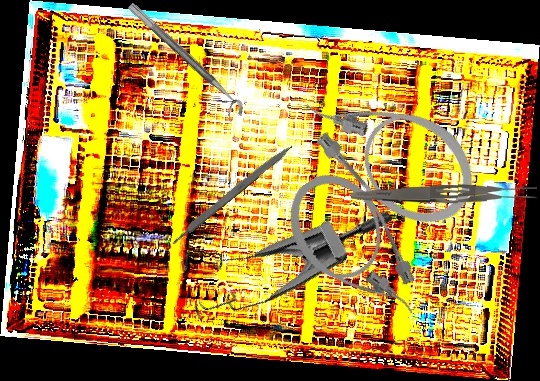Cannula: (286, 53, 494, 245), (271, 158, 437, 345)
Dressing Forceps: (350, 181, 538, 209)
Fixation Ring: (118, 1, 249, 125)
Scalpel Handle: (167, 141, 295, 247)
Speculum: (162, 138, 395, 356)
